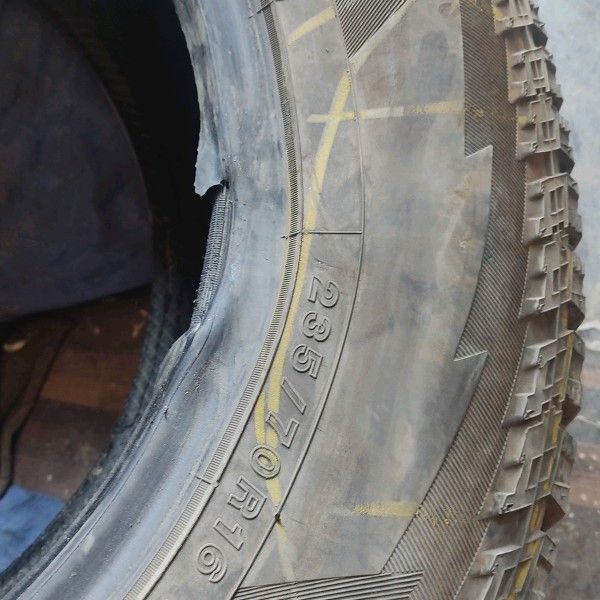bead_damage: (92, 141, 247, 490)
